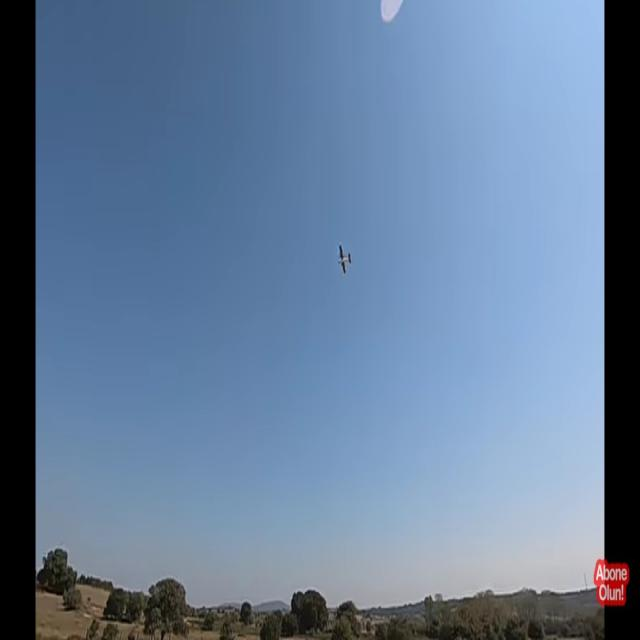iha: (338, 244, 352, 276)
